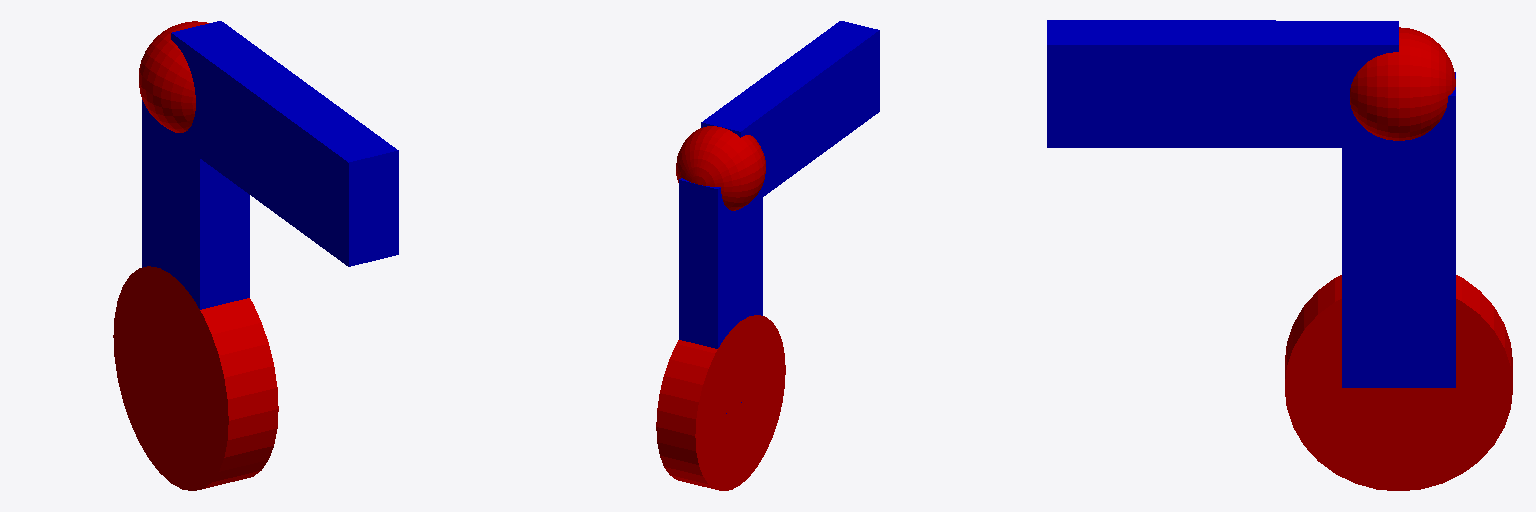
robot.urdf — TwoLink9399582465:
<?xml version="1.0"?>
<robot  name="TwoLink9399582465" >
 <material  name="blue" >
  <color  rgba="0 0 0.8 1.0" />
 </material>
 <material  name="red" >
  <color  rgba="0.8 0 0 1.0" />
 </material>
 <link  name="base_link" >
  <visual >
   <origin  rpy="0 1.5707 0"  xyz="0 0 0" />
   <material  name="red" />
   <geometry >
    <cylinder  length="0.05"  radius="0.1" />
   </geometry>
  </visual>
 </link>
 <joint  name="joint1"  type="revolute" >
  <parent  link="base_link" />
  <child  link="link1" />
  <origin  rpy="0 0 0"  xyz="0 0 0" />
  <axis  xyz="1 0 0" />
 </joint>
 <link  name="link1" >
  <inertial >
   <origin  rpy="0 0 0"  xyz="0 0 0.1406151235" />
   <mass  value="1.47645879675" />
   <inertia  izz="0.010038745027648894"  ixx="0.010038745027648894"  iyz="0.0"  ixz="0.0"  ixy="0.0"  iyy="0.0006151911653125001" />
  </inertial>
  <visual >
   <origin  rpy="0 0 0"  xyz="0 0 0.1406151235" />
   <material  name="blue" />
   <geometry >
    <box  size="0.05 0.1 0.281230247" />
   </geometry>
  </visual>
 </link>
 <joint  name="joint-joint-1"  type="fixed" >
  <parent  link="link1" />
  <child  link="joint-link-1" />
  <origin  rpy="1.5707 0 0"  xyz="0 0 0.281230247" />
  <axis  xyz="1 0 0" />
 </joint>
 <link  name="joint-link-1" >
  <inertial >
   <origin  rpy="0 0 0"  xyz="0 0 0" />
   <mass  value="1.53405543" />
   <inertia  izz="0"  ixx="0"  iyz="0"  ixz="0"  ixy="0"  iyy="0" />
  </inertial>
  <visual >
   <origin  rpy="0 0 0"  xyz="0 0 0" />
   <material  name="red" />
   <geometry >
    <sphere  radius="0.05" />
   </geometry>
  </visual>
 </link>
 <joint  name="joint2"  type="revolute" >
  <parent  link="link1" />
  <child  link="link2" />
  <origin  rpy="1.5707 0 0"  xyz="0 0 0.281230247" />
  <axis  xyz="1 0 0" />
 </joint>
 <link  name="link2" >
  <inertial >
   <origin  rpy="0 0 0"  xyz="0 0 0.15397814" />
   <mass  value="1.47645879675" />
   <inertia  izz="0.01197618115244277"  ixx="0.01197618115244277"  iyz="0.0"  ixz="0.0"  ixy="0.0"  iyy="0.0006151911653125001" />
  </inertial>
  <visual >
   <origin  rpy="0 0 0"  xyz="0 0 0.15397814" />
   <material  name="blue" />
   <geometry >
    <box  size="0.05 0.1 0.30795628" />
   </geometry>
  </visual>
 </link>
 <joint  name="eef_joint"  type="fixed" >
  <parent  link="link2" />
  <child  link="eef" />
  <origin  rpy="0 0 0"  xyz="0 0 0.30795628" />
 </joint>
 <link  name="eef" >
  <inertial >
   <origin  rpy="0 0 0"  xyz="0 0 0" />
   <mass  value="1" />
   <inertia  izz="0"  ixx="0"  iyz="0"  ixz="0"  ixy="0"  iyy="0" />
  </inertial>
 </link>
 <transmission  name="motor1" >
  <type  xmltext="SimpleTransmission" >
   SimpleTransmission
  </type>
  <actuator  name="motor1" >
   <mechanicalreduction  xmltext="1" >
    1
   </mechanicalreduction>
  </actuator>
  <joint  name="joint1" />
 </transmission>
 <transmission  name="motor2" >
  <type  xmltext="SimpleTransmission" >
   SimpleTransmission
  </type>
  <actuator  name="motor2" >
   <mechanicalreduction  xmltext="1" >
    1
   </mechanicalreduction>
  </actuator>
  <joint  name="joint2" />
 </transmission>
</robot>

<!-- {'tau_mu': 0.0053, 'b0': 1.5e-05, 'k_velocity': 1.0606085407643906, 'carti': array([-0.1 ,  0.14,  0.85]), 'cartd': array([-0.1 ,  0.32,  1.29]), 'omega_max_m': 6898.57304, 'gear_ratio': 20.0458703, 'Kp': 85.3404559, 'Kd': 16.3537017, 'm_m': 1.53405543, 'l1': 0.281230247, 'l2': 0.30795628, 'tau_max_m': 8.299393936553622, 'Km': 0.2719006975076941}-->

--- Render facts (derived) ---
Views: 3 orthographic renders of the robot side by side, from view 1: azimuth 30°, elevation 25°; view 2: azimuth 150°, elevation 25°; view 3: azimuth 270°, elevation 25°.
Model TwoLink9399582465 with 5 links and 4 joints (2 revolute, 2 fixed), rooted at base_link, posed all joints at 0.
Links seen in each view (by area): view 1: link2, base_link, link1, joint-link-1; view 2: base_link, link2, link1, joint-link-1; view 3: link2, link1, base_link, joint-link-1.
Boxes of the visible links, <box> form: link2: <box>171,21,398,266</box>; base_link: <box>113,266,278,490</box>; link1: <box>142,100,249,309</box>; joint-link-1: <box>139,21,208,132</box>; base_link: <box>656,315,785,490</box>; link2: <box>701,21,879,211</box>; link1: <box>679,178,762,413</box>; joint-link-1: <box>676,126,765,210</box>; link2: <box>1047,20,1398,147</box>; link1: <box>1342,72,1455,387</box>; base_link: <box>1285,275,1512,490</box>; joint-link-1: <box>1350,27,1455,140</box>.
Size in the robot's own frame: 0.1 by 0.408 by 0.4313 metres.
Geometry: primitives only (box / cylinder / sphere), no mesh files.
